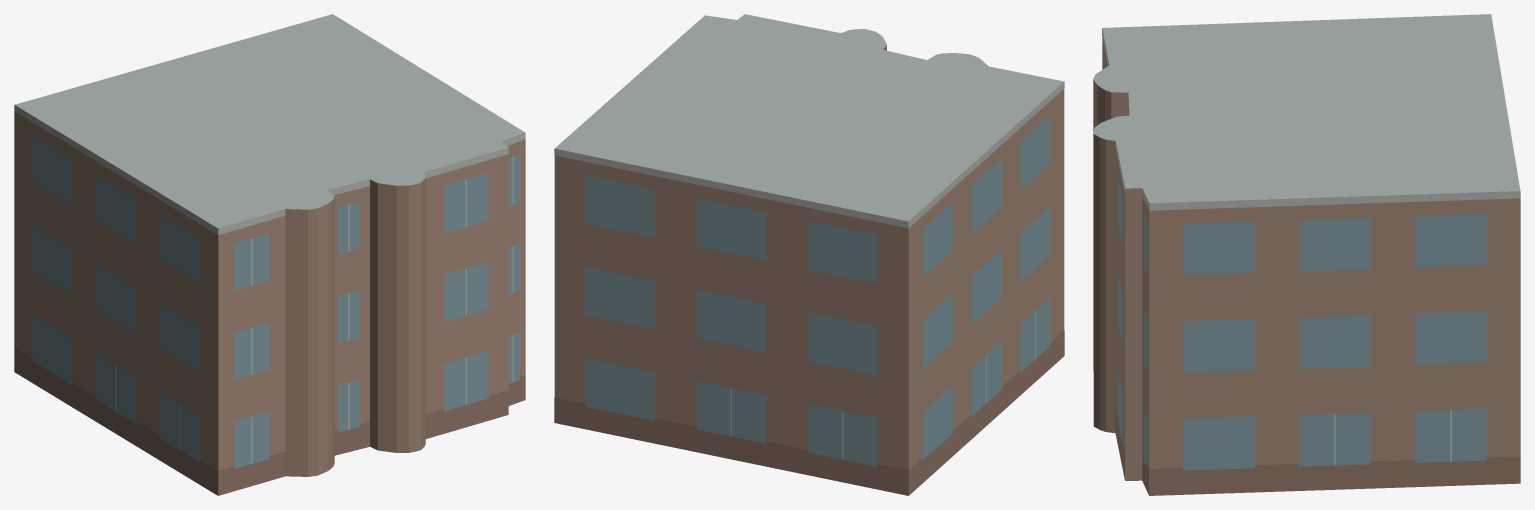
File: survey-upis-32608040.glb
The picture shows the model from 3 angles, left to right: view 1: azimuth 30°, elevation 25°; view 2: azimuth 150°, elevation 25°; view 3: azimuth 270°, elevation 25°; orthographic projection. The views are drawn at different scales.
Visible parts, largest first — view 1: survey-upis-32608040.tmp; view 2: survey-upis-32608040.tmp; view 3: survey-upis-32608040.tmp.
Boxes of the visible parts, box(x1,y1,x2,y2) form: survey-upis-32608040.tmp: box(14, 14, 525, 495); survey-upis-32608040.tmp: box(554, 14, 1064, 495); survey-upis-32608040.tmp: box(1093, 14, 1520, 495).
Bounding box in the file's own units: 13.62 × 9.8 × 12.98.
